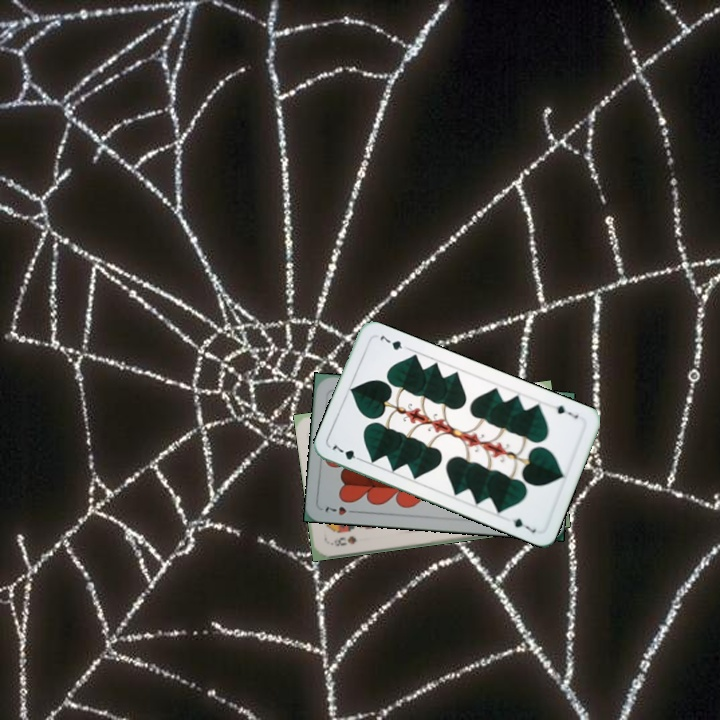G7: (328, 439, 366, 464), (552, 401, 581, 421)
H7: (321, 503, 360, 518)
S8: (327, 532, 359, 549)
